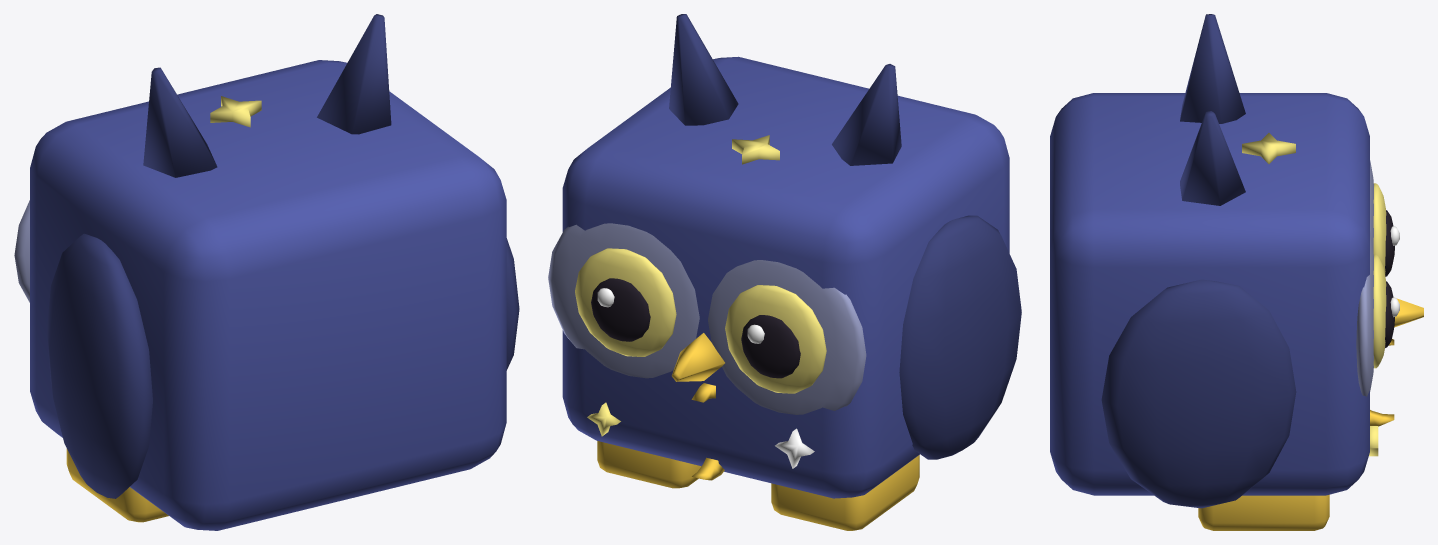
The model's file is pet_lunarowl.fbx.
The picture shows the model from 3 angles, left to right: view 1: azimuth 30°, elevation 25°; view 2: azimuth 150°, elevation 25°; view 3: azimuth 270°, elevation 25°; orthographic projection. The views are drawn at different scales.
Visible parts, largest first — view 1: pet_lunarowl; view 2: pet_lunarowl; view 3: pet_lunarowl.
Boxes of the visible parts, box(x1,y1,x2,y2) form: pet_lunarowl: box(14, 14, 519, 530); pet_lunarowl: box(548, 14, 1021, 530); pet_lunarowl: box(1050, 14, 1423, 530).
Size of the model in its own units: 2.59 by 2.69 by 2.22.
1 material, 1 textured.
